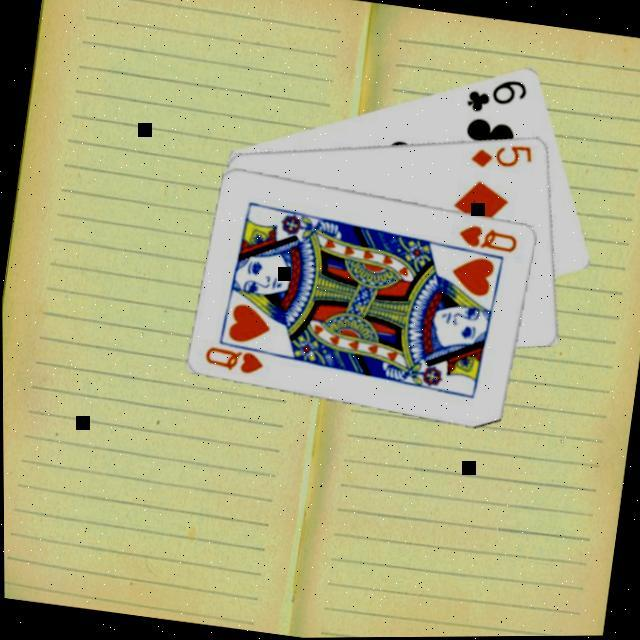5D: (469, 133, 539, 175)
6C: (464, 69, 533, 119)
QH: (202, 333, 279, 378), (457, 217, 524, 254)
